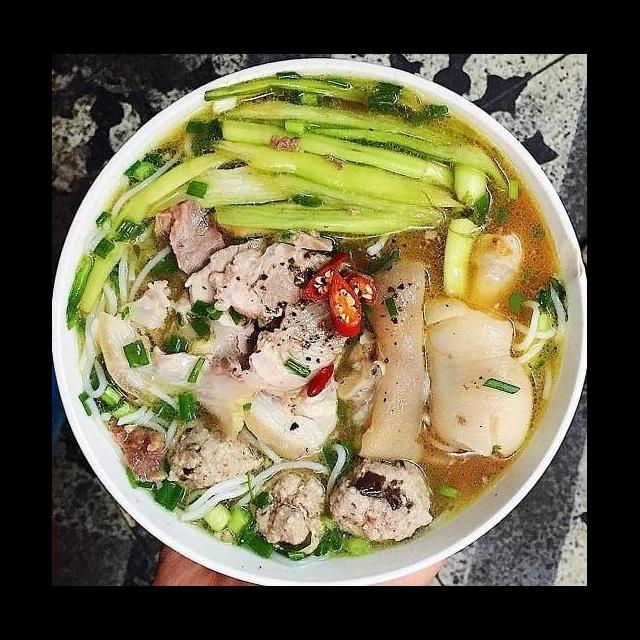bun: (74, 234, 172, 401)
bun moc: (57, 86, 568, 586)
thit heo: (200, 227, 368, 401)
vien moc: (328, 452, 446, 541), (242, 465, 342, 556), (160, 415, 268, 493)
